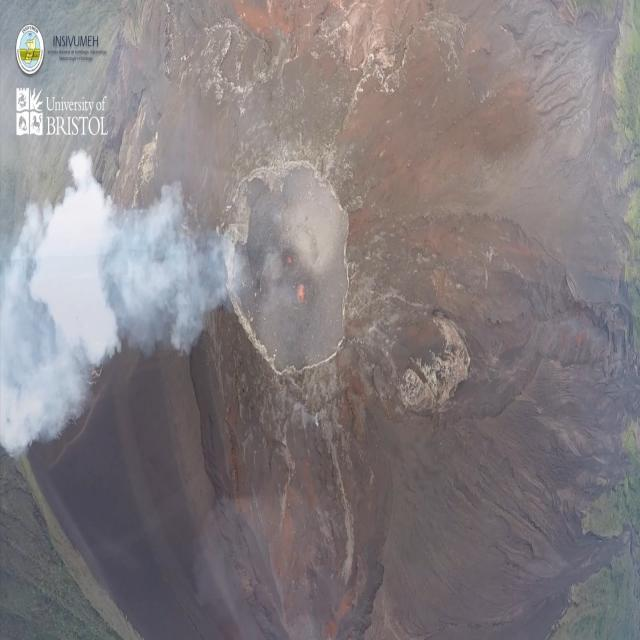Plume: (2, 162, 218, 444)
Summit: (221, 146, 371, 407)
